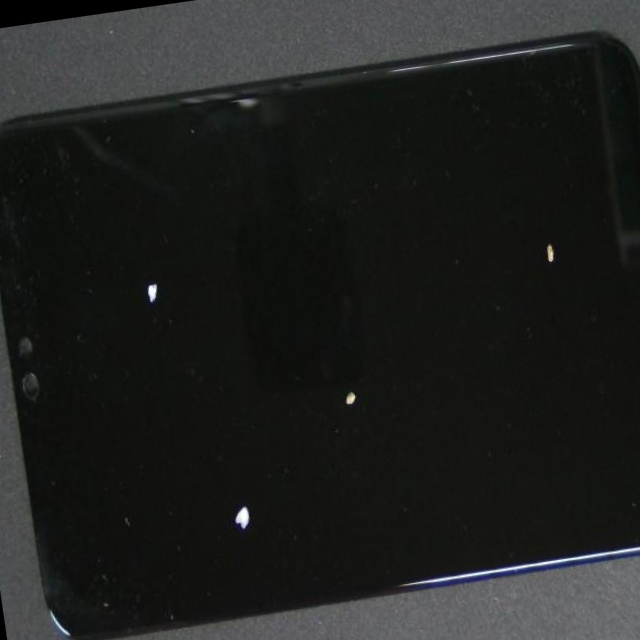stain: (148, 139, 549, 595), (248, 54, 640, 402), (105, 192, 396, 640), (60, 132, 270, 412)
